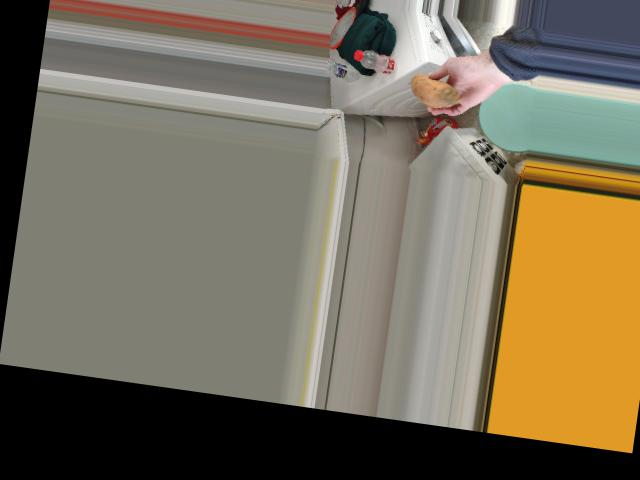sweet_potato: (406, 76, 467, 109)
